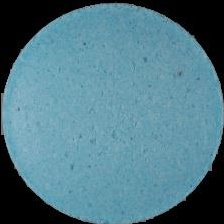10544-518: (0, 0, 224, 224)
